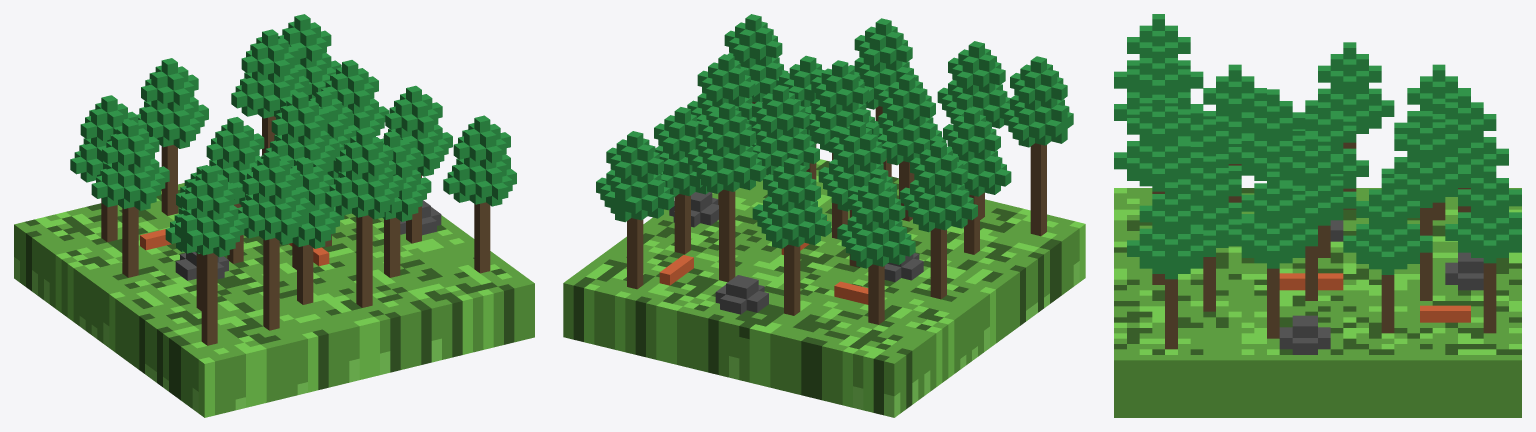
File: Plaines Map-17.obj
3 renders of one model, left to right at view 1: azimuth 30°, elevation 25°; view 2: azimuth 150°, elevation 25°; view 3: azimuth 270°, elevation 25°, orthographic. The views are drawn at different scales.
Size of the model in its own units: 3.2 by 2.1 by 3.2.
1 material, 1 textured.
